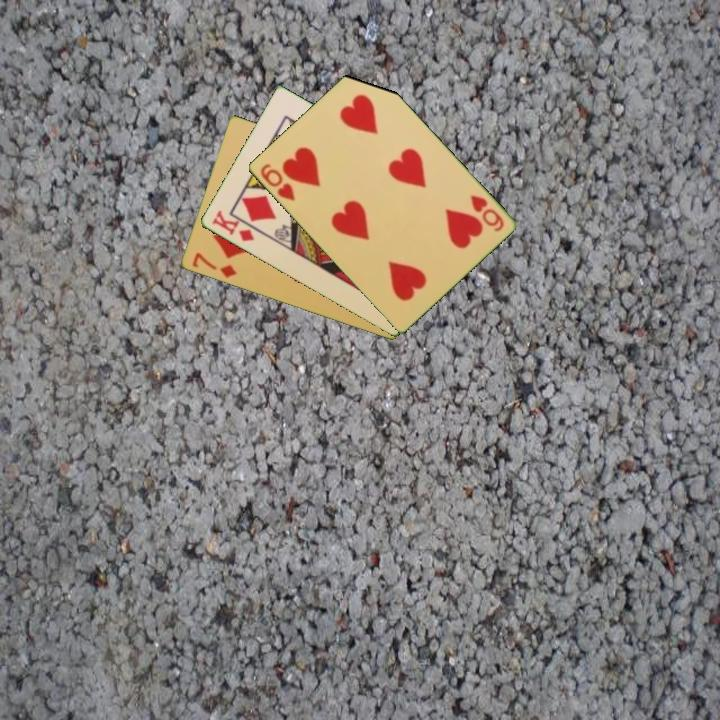6h: (256, 160, 297, 204), (466, 191, 507, 235)
7d: (188, 249, 239, 281)
Kd: (208, 207, 257, 245)
